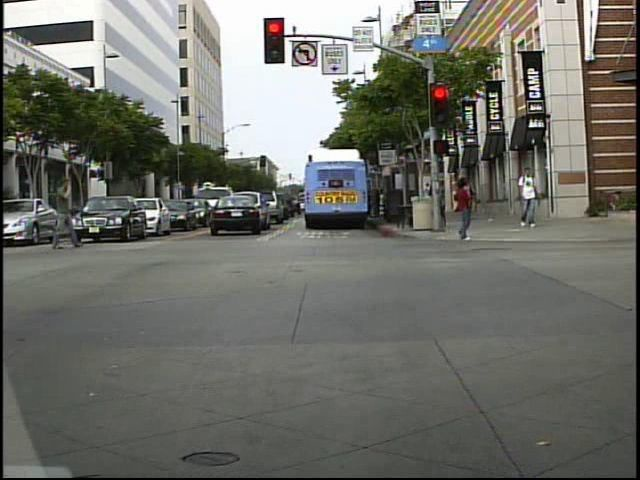person: (444, 171, 484, 246)
